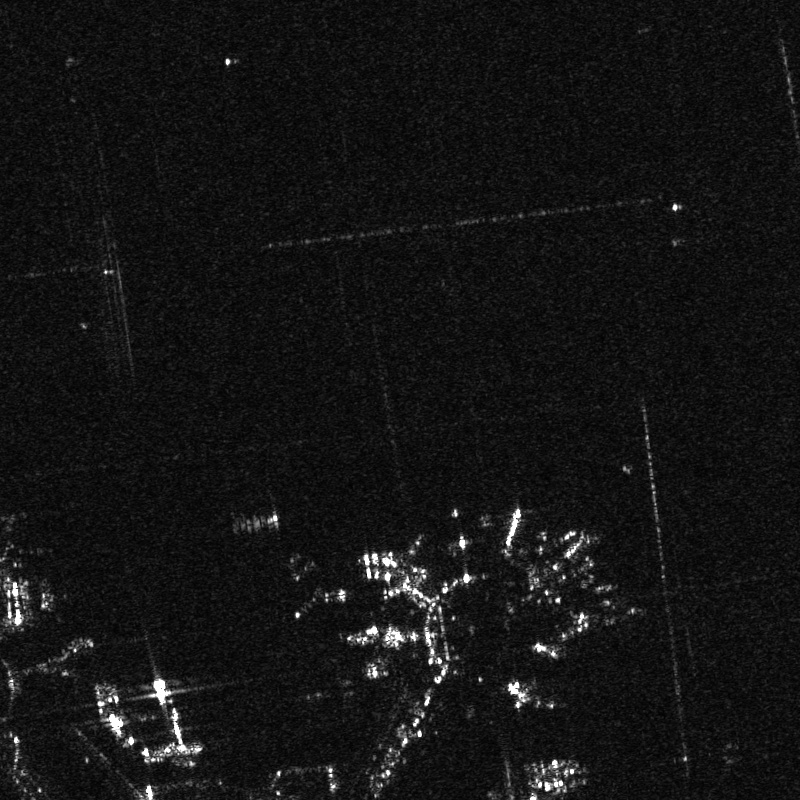A220: (293, 555, 351, 620), (312, 669, 357, 710)
